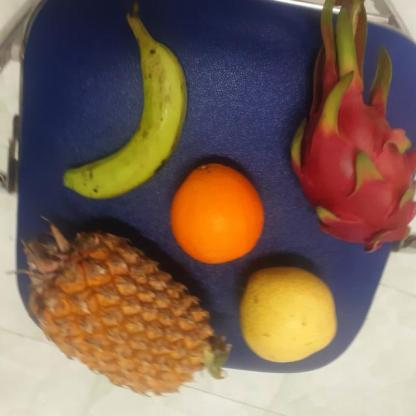banana: (63, 39, 191, 200)
orange: (170, 163, 268, 264)
pear: (238, 262, 340, 366)
pineapple: (32, 227, 224, 400)
pitaya: (290, 55, 415, 251)
